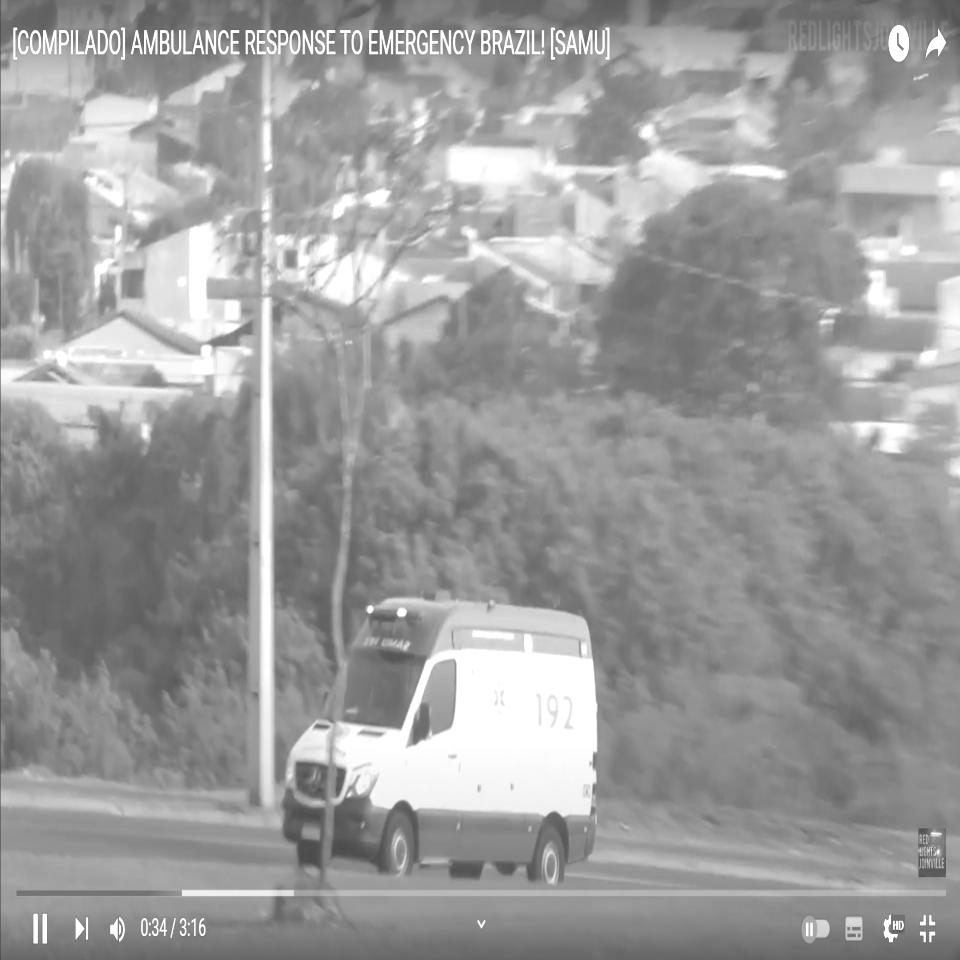ambulancia: (284, 590, 600, 888)
